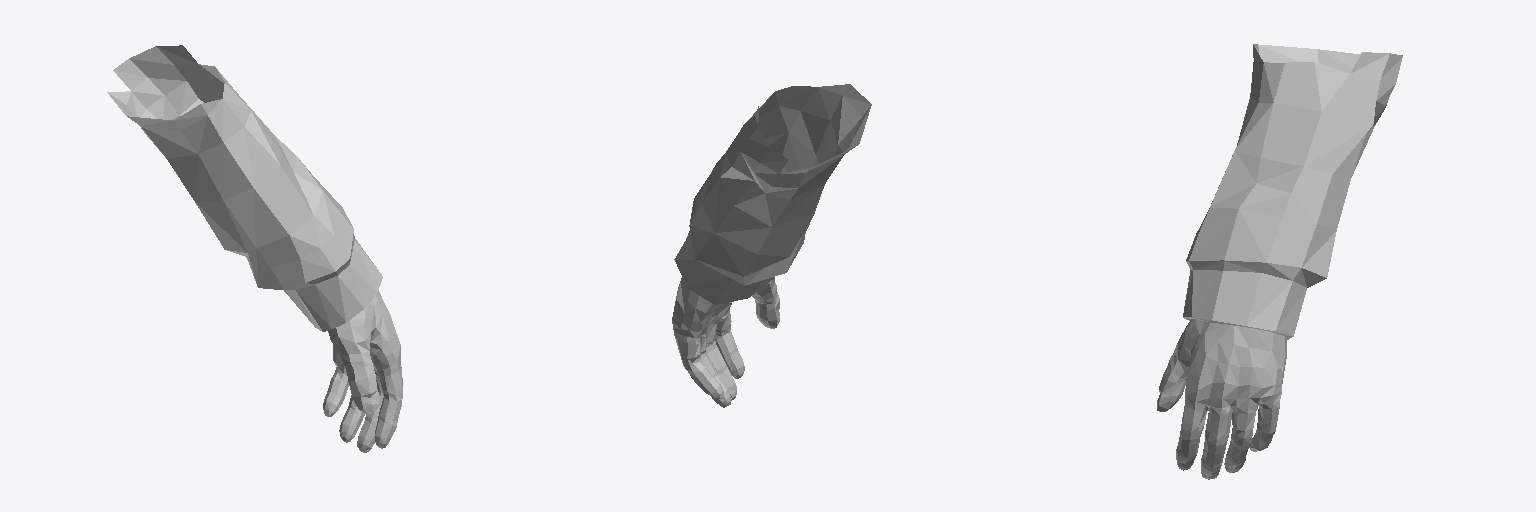
File: manoIzq.obj
The picture shows the model from 3 angles: view 1: azimuth 30°, elevation 25°; view 2: azimuth 150°, elevation 25°; view 3: azimuth 270°, elevation 25°; orthographic projection.
Size of the model in its own units: 24.96 by 40.6 by 24.06.